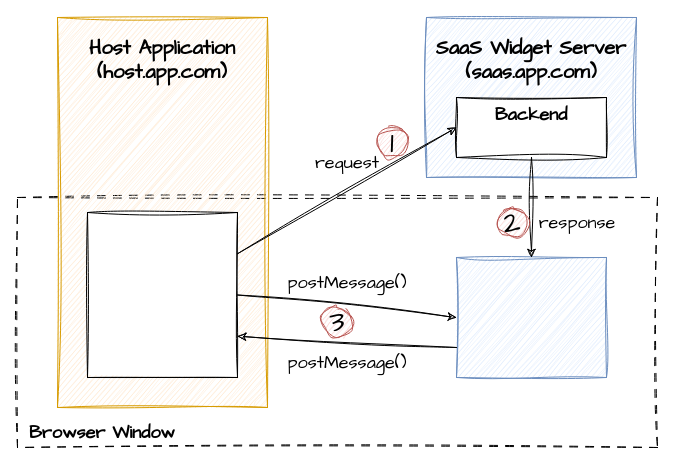
This 675x465 diagram has some shape labels left out. The centre of each missing label's shape, as x and y in pixels:
"Iframe content" belongs at point (531, 317).
"Main Page" belongs at point (162, 295).
